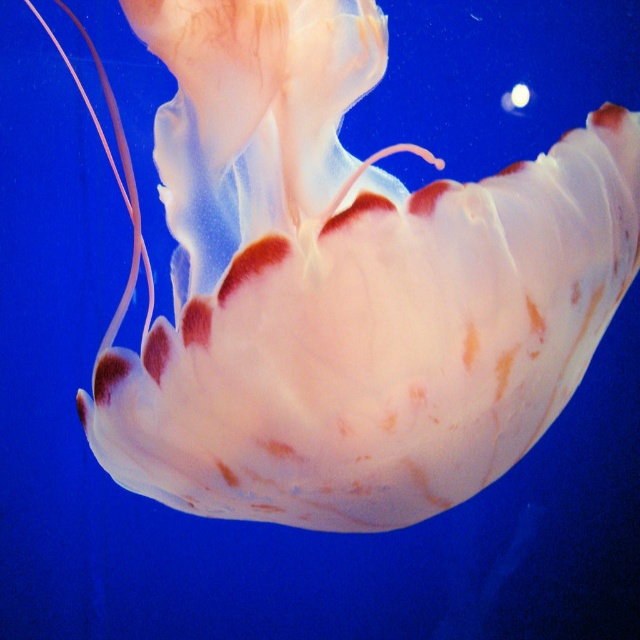Jellyfish: (24, 0, 638, 533)
